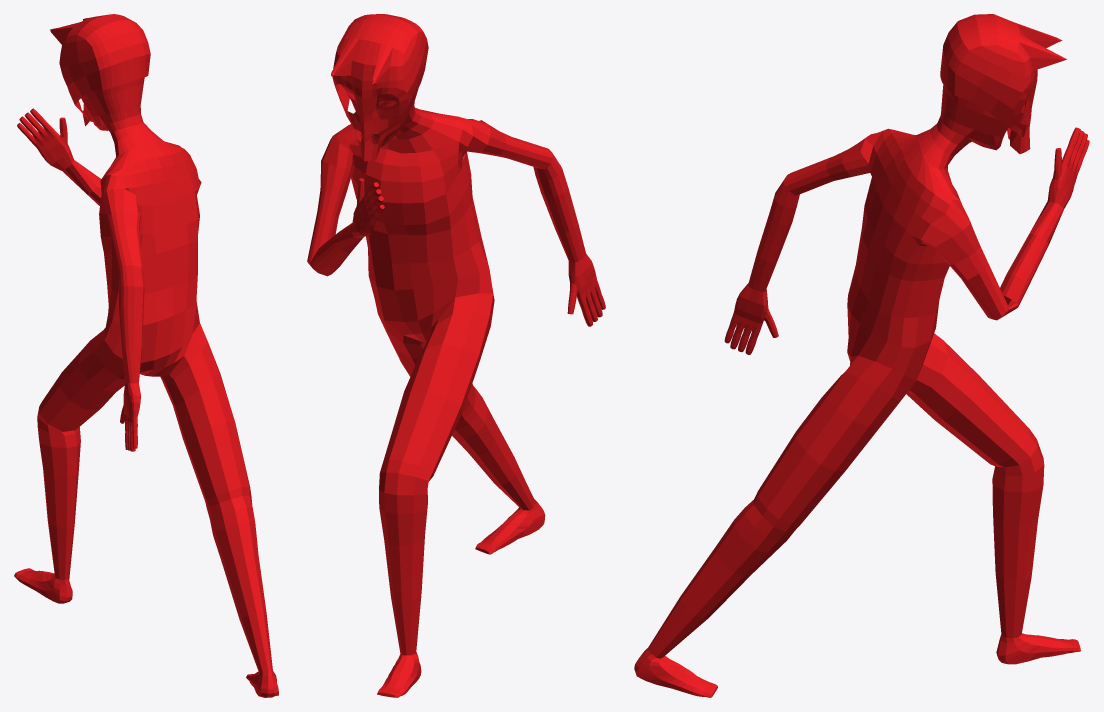
File: marchaE_000041.obj
3 views of the same model, side by side, from view 1: azimuth 30°, elevation 25°; view 2: azimuth 150°, elevation 25°; view 3: azimuth 270°, elevation 25° (orthographic). The views are drawn at different scales.
Parts seen in each view (by area): view 1: Plane.002_Plane.001; view 2: Plane.002_Plane.001; view 3: Plane.002_Plane.001.
Boxes of the visible parts, x1=… form: Plane.002_Plane.001: x1=14, y1=14, x2=278, y2=697; Plane.002_Plane.001: x1=307, y1=14, x2=605, y2=697; Plane.002_Plane.001: x1=634, y1=14, x2=1089, y2=697.
Bounding box in the file's own units: 1.85 × 6.41 × 4.01.
